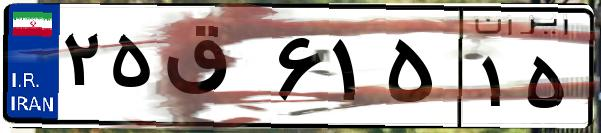1: (330, 28, 385, 110), (475, 38, 525, 113)
2: (57, 26, 110, 100)
5: (385, 28, 445, 110), (525, 38, 570, 115), (110, 28, 158, 98)
6: (270, 28, 330, 110)
ق: (158, 20, 270, 120)
